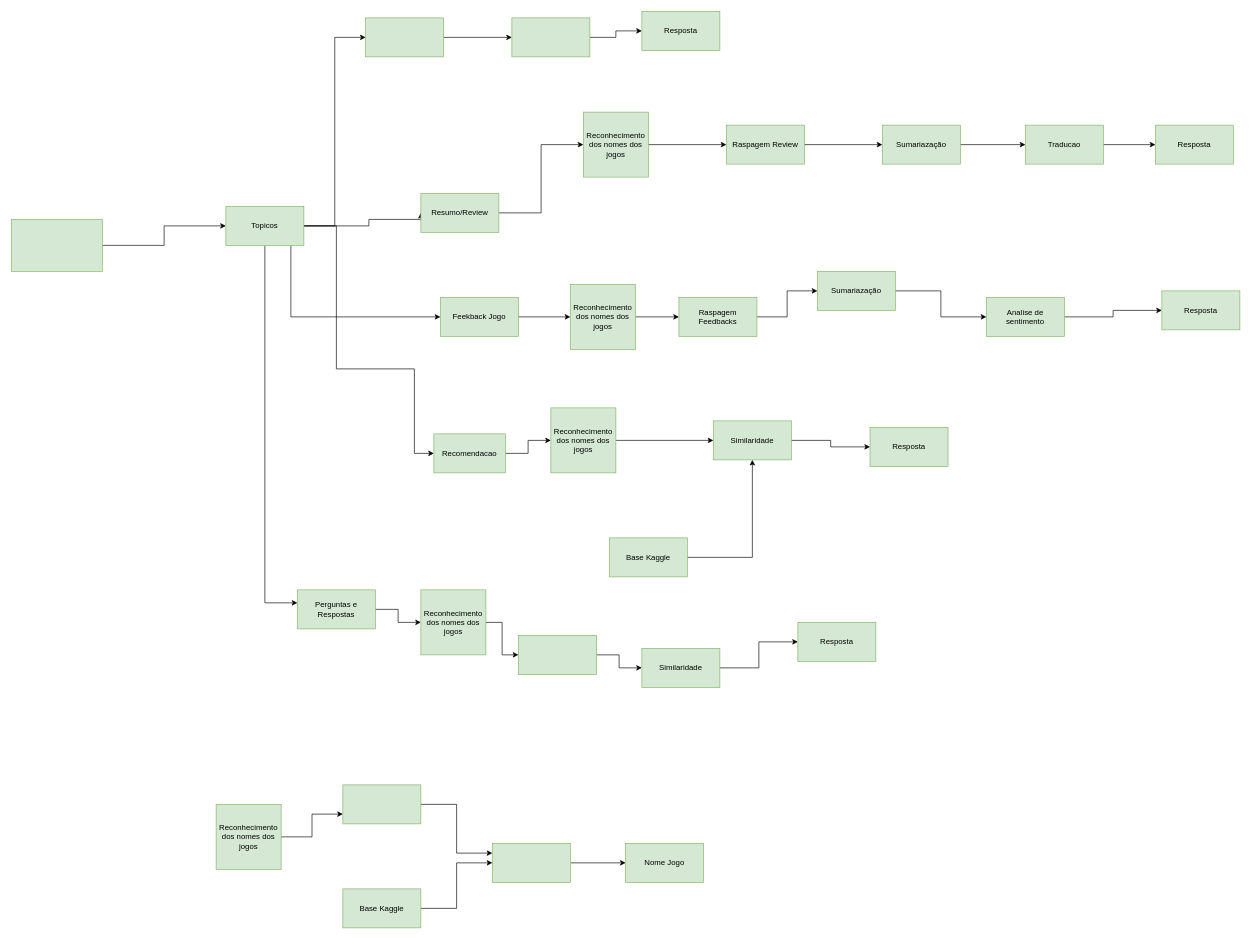
The diagram is 1251 pixels wide and 939 high, and some of its shapes have lost their labels. Here are the shapes that lost their labels. From the top down, the centre of each, then its label:
At pixel 404 37: "Saudacoes".
At pixel 550 37: "Modelo N-gramas".
At pixel 56 245: "Chatbot".
At pixel 557 654: "Wikipedia".
At pixel 381 804: "Frase".
At pixel 531 862: "Siimilaridade".
